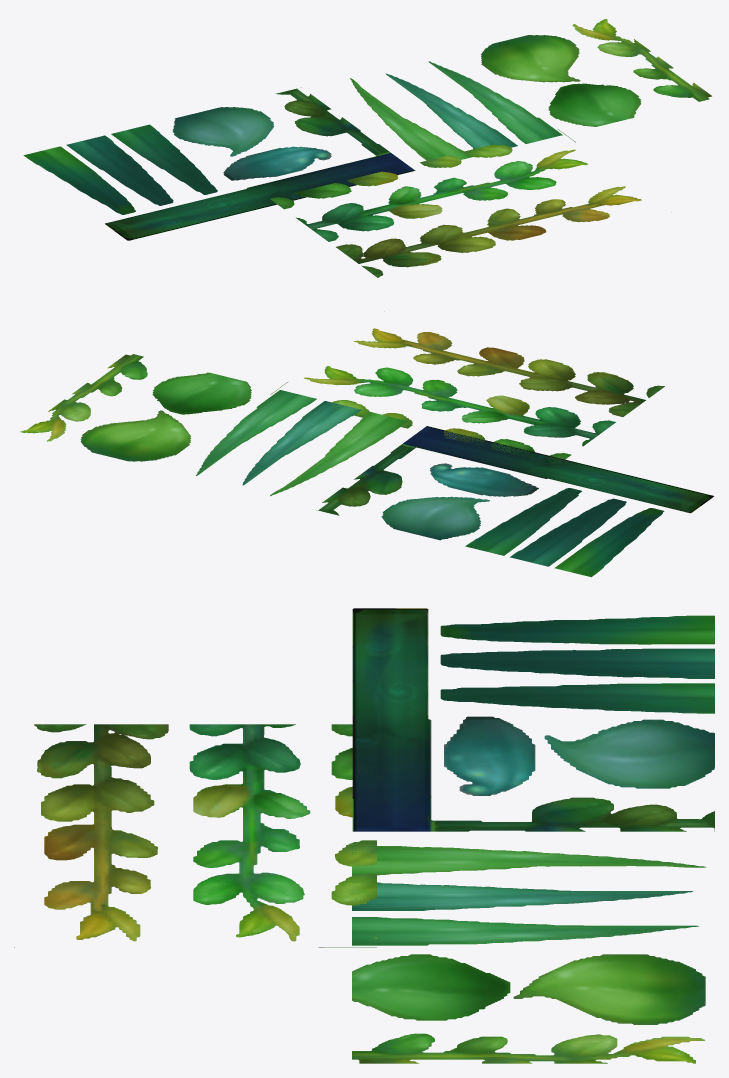
The model's file is h5_grass.FBX.
The picture shows the model from 3 angles, top to bottom: view 1: azimuth 30°, elevation 25°; view 2: azimuth 150°, elevation 25°; view 3: azimuth 270°, elevation 25°; orthographic projection. The views are drawn at different scales.
Visible parts, largest first — view 1: h5_grass_c, h5_grass_b, h5_grass_a; view 2: h5_grass_c, h5_grass_b, h5_grass_a; view 3: h5_grass_c, h5_grass_b, h5_grass_a.
Boxes of the visible parts, box(x1,y1,x2,y2) form: h5_grass_c: box(23, 87, 415, 240); h5_grass_b: box(350, 19, 711, 160); h5_grass_a: box(270, 129, 641, 277); h5_grass_c: box(316, 426, 713, 577); h5_grass_b: box(20, 354, 407, 496); h5_grass_a: box(270, 328, 664, 463); h5_grass_c: box(352, 608, 714, 831); h5_grass_b: box(352, 846, 706, 1063); h5_grass_a: box(14, 724, 376, 947).
Bounding box in the file's own units: 15.87 × 6.33e-16 × 10.33.
